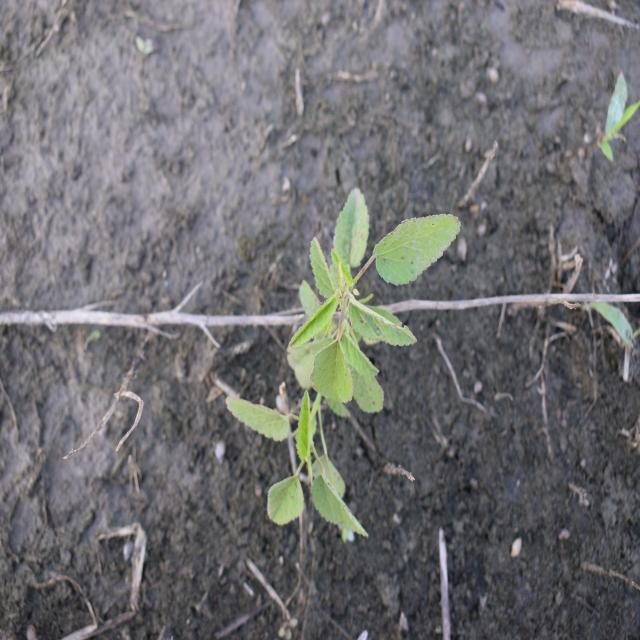PricklySida: (223, 185, 463, 540)
